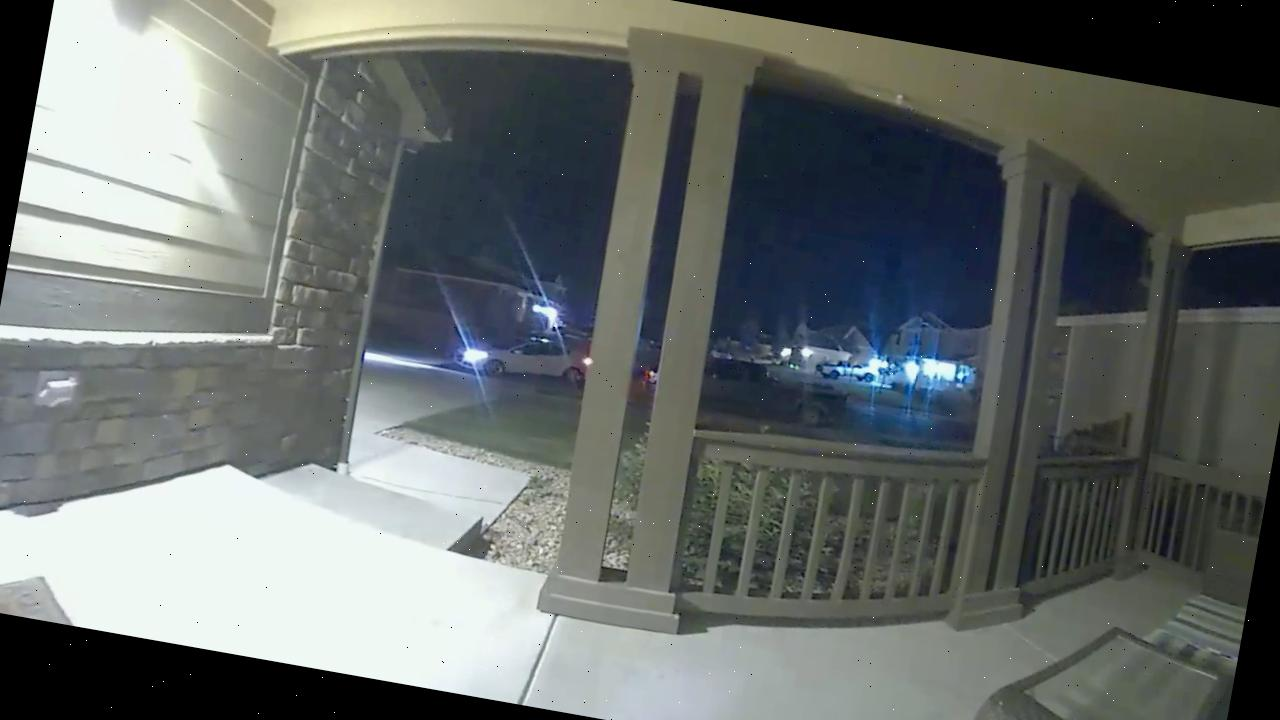suspicion: (638, 336, 864, 458), (422, 309, 592, 390), (810, 352, 889, 387)
